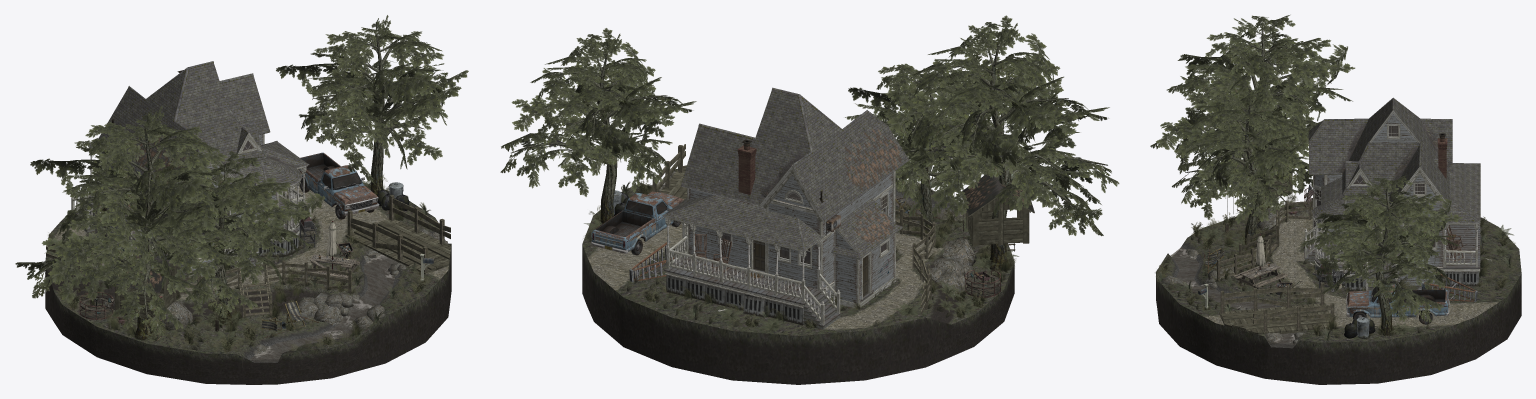
Rendered from dae_diorama_-_forest_loner.glb.
3 renders of one model, left to right at view 1: azimuth 30°, elevation 25°; view 2: azimuth 150°, elevation 25°; view 3: azimuth 270°, elevation 25°, orthographic. The views are drawn at different scales.
Parts seen in each view (by area): view 1: SM_trees, SM_ground, SM_roof1, SM_grasses, SM_fence, SM_rocks, SM_Truck, SM_water, SM_bridge, SM_treeHouse, SM_railing1, SM_picnicTable (+6 smaller); view 2: SM_trees, SM_ground, SM_roof1, SM_fassade, SM_grasses, SM_porch, SM_railing1, SM_treeHouse, SM_Truck, SM_fence, SM_woodSupports, SM_driedLeafs (+8 smaller); view 3: SM_trees, SM_ground, SM_roof1, SM_grasses, SM_fence, SM_porch, SM_Truck, SM_bridge, SM_fassade, SM_water, SM_railing1, SM_decal (+6 smaller).
Boxes of the visible parts, x1,y1,x2,y2 form: SM_trees: (15, 15, 468, 340); SM_ground: (45, 177, 451, 384); SM_roof1: (88, 61, 309, 221); SM_grasses: (44, 175, 430, 352); SM_fence: (46, 195, 450, 318); SM_rocks: (104, 228, 448, 356); SM_Truck: (298, 152, 379, 219); SM_water: (242, 237, 445, 366); SM_bridge: (345, 219, 450, 274); SM_treeHouse: (111, 253, 181, 342); SM_railing1: (71, 146, 311, 267); SM_picnicTable: (309, 221, 359, 283); SM_trees: (500, 15, 1119, 270); SM_ground: (582, 169, 1014, 384); SM_roof1: (662, 87, 909, 259); SM_fassade: (689, 173, 893, 302); SM_grasses: (583, 179, 1018, 331); SM_porch: (664, 256, 824, 325); SM_railing1: (665, 217, 840, 325); SM_treeHouse: (961, 174, 1034, 251); SM_Truck: (591, 191, 683, 255); SM_fence: (652, 144, 935, 314); SM_woodSupports: (687, 171, 896, 307); SM_driedLeafs: (845, 129, 901, 244); SM_trees: (1150, 15, 1462, 335); SM_ground: (1156, 204, 1521, 384); SM_roof1: (1308, 97, 1480, 228); SM_grasses: (1155, 194, 1518, 340); SM_fence: (1217, 200, 1334, 331); SM_porch: (1314, 223, 1483, 291); SM_Truck: (1346, 284, 1449, 324); SM_bridge: (1219, 303, 1335, 334); SM_fassade: (1314, 114, 1447, 285); SM_water: (1171, 247, 1295, 347); SM_railing1: (1304, 216, 1492, 290); SM_decal: (1313, 123, 1451, 282).
Bounding box in the file's own units: 28.27 × 13.47 × 20.2.
Materials: 40 (39 with a texture image).
